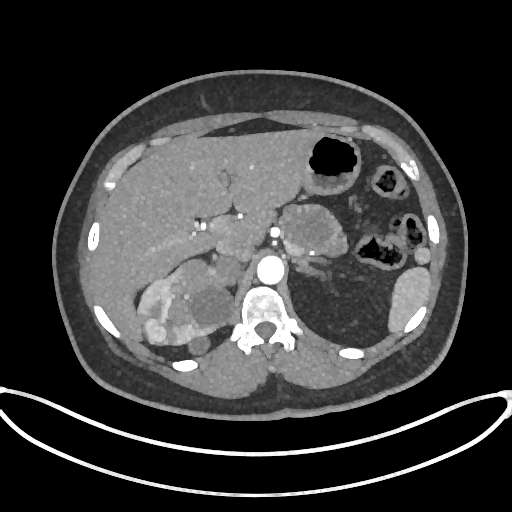Lesion: (141, 317, 170, 346)
